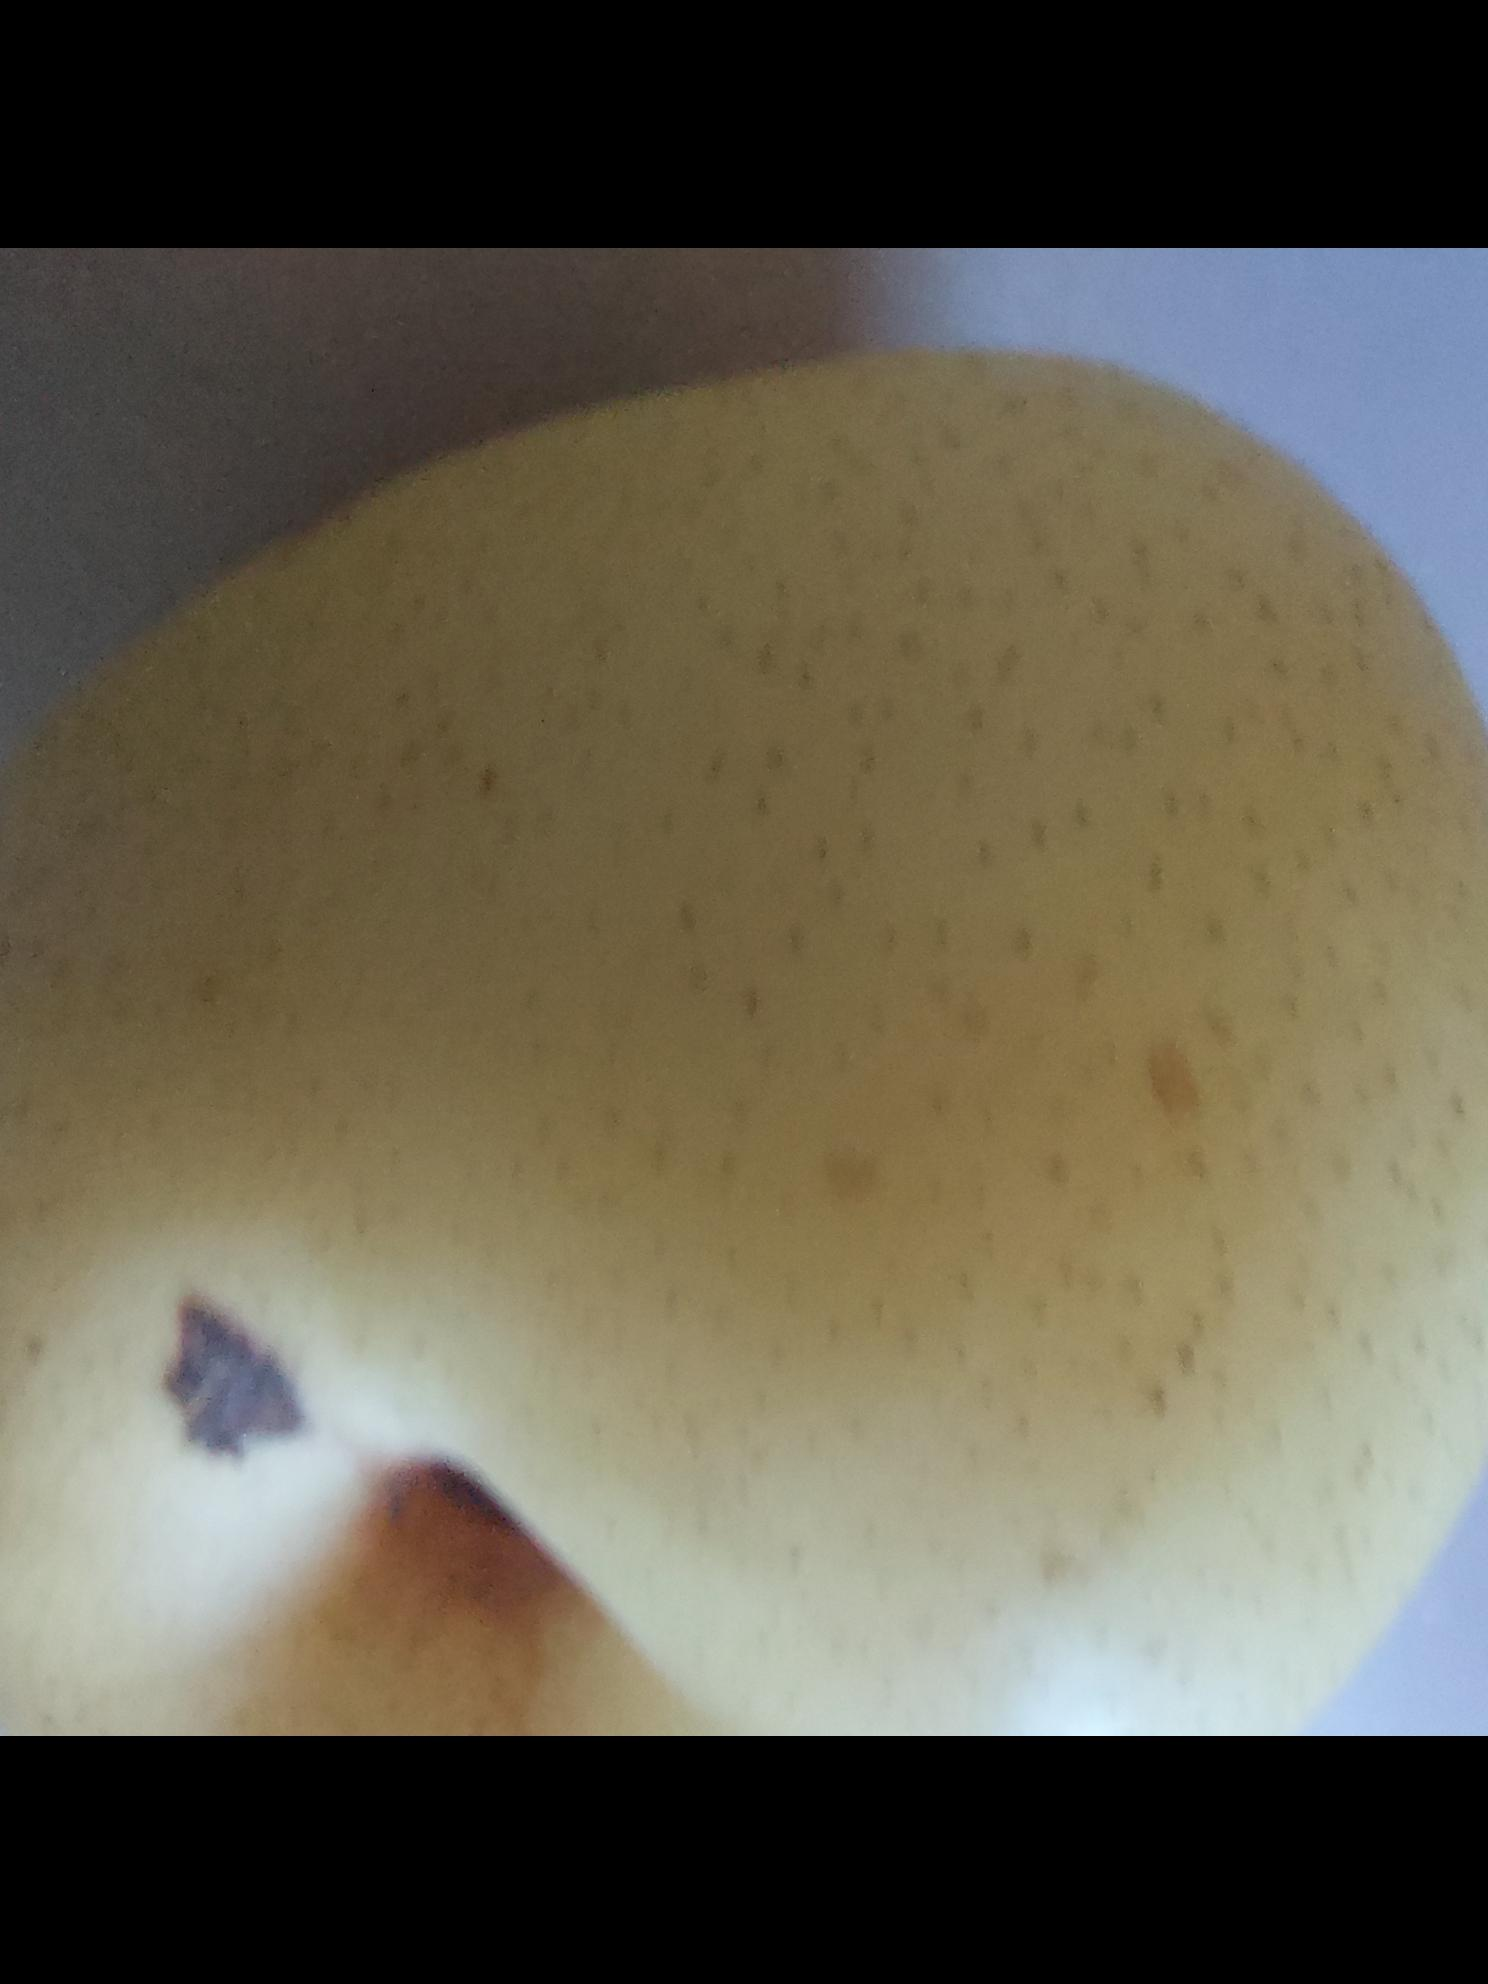Good Pear: (0, 339, 1488, 1736)
